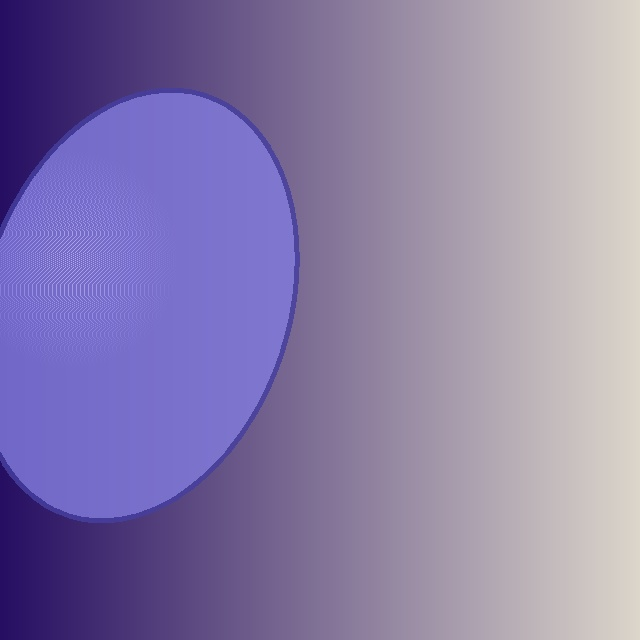lens: (0, 90, 296, 520)
